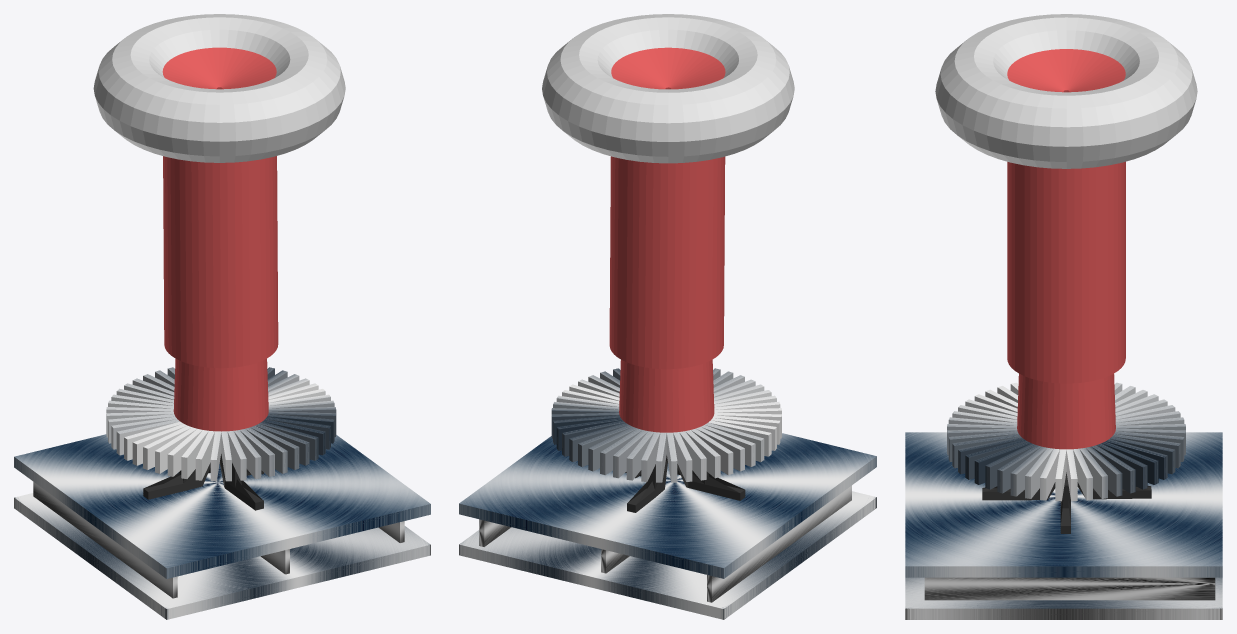
File: Teslav7.fbx
3 views of the same model, side by side, from view 1: azimuth 30°, elevation 25°; view 2: azimuth 150°, elevation 25°; view 3: azimuth 270°, elevation 25° (orthographic). The views are drawn at different scales.
Visible parts, largest first — view 1: Torus, Plane, bottomPlane, Cube.004, Cube.001, Cube.002; view 2: Torus, Plane, bottomPlane, Cube.004, Cube.001, Cube; view 3: Torus, Plane, bottomPlane, Cube.005, Cube.002, Cube.003, Cube.
Part boxes in pixels (x1=…): Torus: x1=93, y1=14, x2=345, y2=481; Plane: x1=14, y1=434, x2=430, y2=578; bottomPlane: x1=14, y1=493, x2=430, y2=619; Cube.004: x1=33, y1=482, x2=177, y2=598; Cube.001: x1=143, y1=462, x2=210, y2=499; Cube.002: x1=219, y1=454, x2=263, y2=510; Torus: x1=542, y1=14, x2=794, y2=482; Plane: x1=459, y1=433, x2=876, y2=578; bottomPlane: x1=459, y1=491, x2=876, y2=619; Cube.004: x1=707, y1=485, x2=851, y2=602; Cube.001: x1=677, y1=464, x2=745, y2=500; Cube: x1=627, y1=455, x2=667, y2=512; Torus: x1=935, y1=14, x2=1197, y2=501; Plane: x1=905, y1=432, x2=1222, y2=577; bottomPlane: x1=905, y1=577, x2=1222, y2=619; Cube.005: x1=924, y1=577, x2=1215, y2=600; Cube.002: x1=982, y1=482, x2=1055, y2=500; Cube.003: x1=1060, y1=472, x2=1070, y2=533; Cube: x1=1077, y1=482, x2=1151, y2=499.
Size of the model in its own units: 445 by 767 by 445.
Materials: 15 (9 with a texture image).
